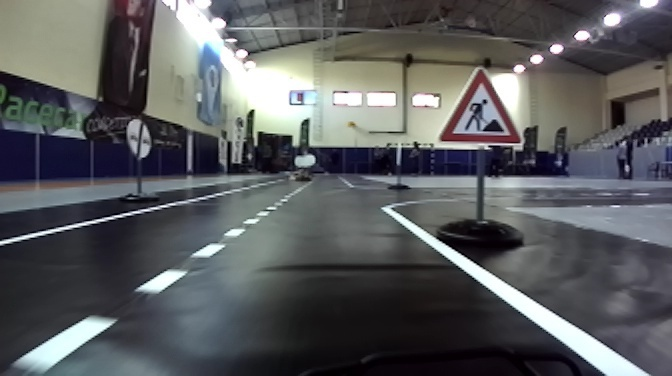yol_yapimi: (433, 63, 534, 145)
